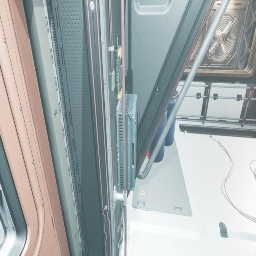EmergencyPhone ,: (114, 34, 122, 101)
